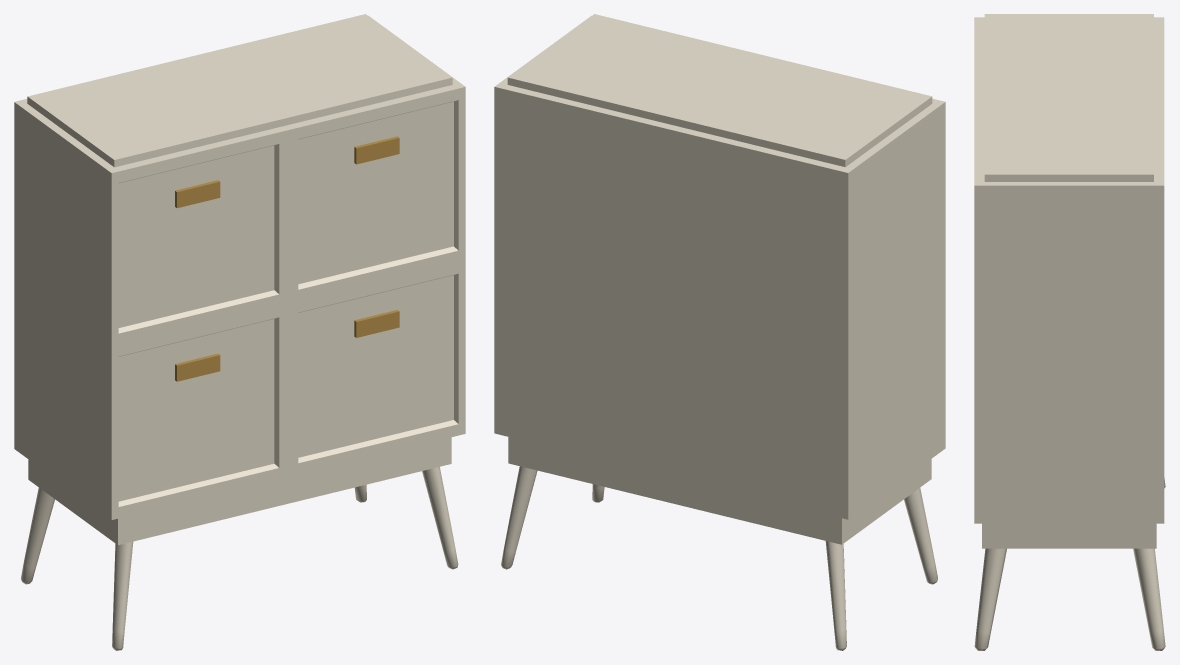
File: pk_chest_cream.glb
3 views of the same model, side by side, from view 1: azimuth 30°, elevation 25°; view 2: azimuth 150°, elevation 25°; view 3: azimuth 270°, elevation 25° (orthographic). The views are drawn at different scales.
Visible parts, largest first — view 1: pk_chest_cream; view 2: pk_chest_cream; view 3: pk_chest_cream.
Boxes of the visible parts, bbox=[...] form: pk_chest_cream: bbox=[14, 14, 465, 650]; pk_chest_cream: bbox=[494, 14, 945, 650]; pk_chest_cream: bbox=[974, 14, 1165, 650].
Size of the model in its own units: 1 by 1.32 by 0.48.
1 material, 1 textured.
